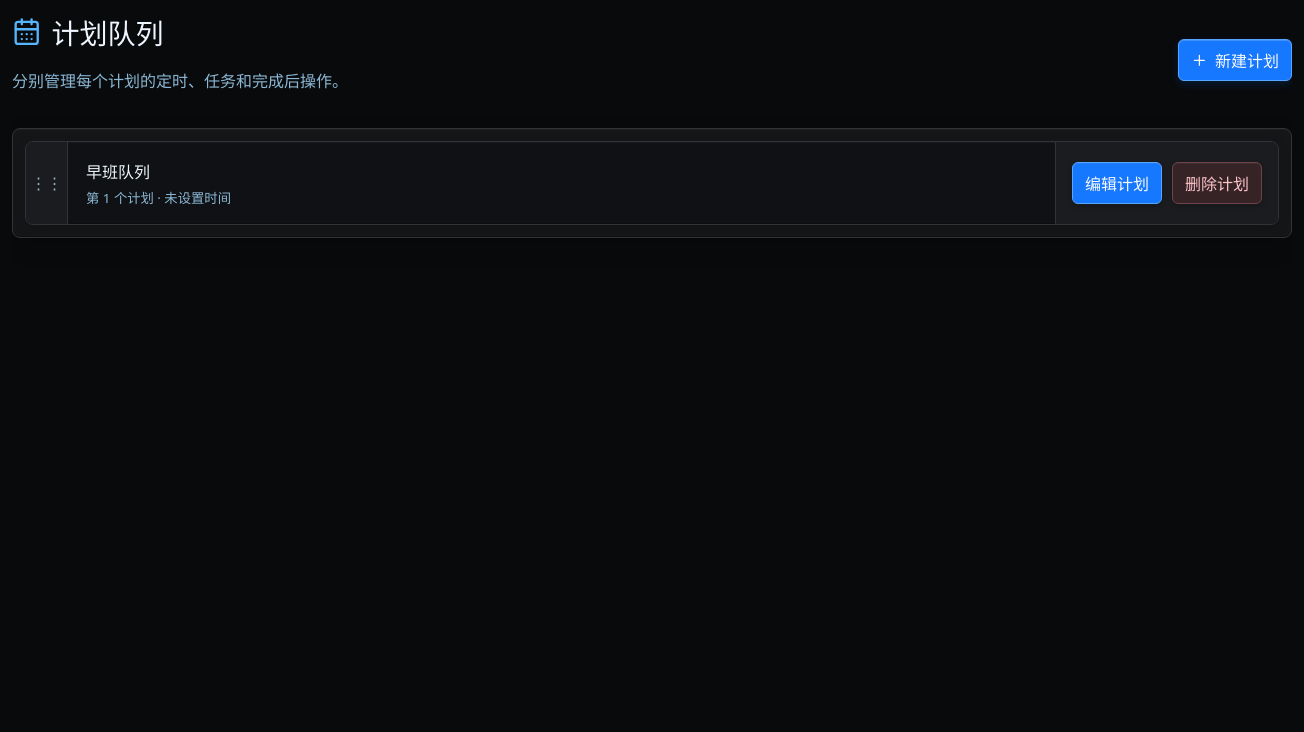
Test: keeps the return button present through rename cancellation and commits on blur
Click the button "编辑计划" at (1117, 183), box [1072,162,1162,204]
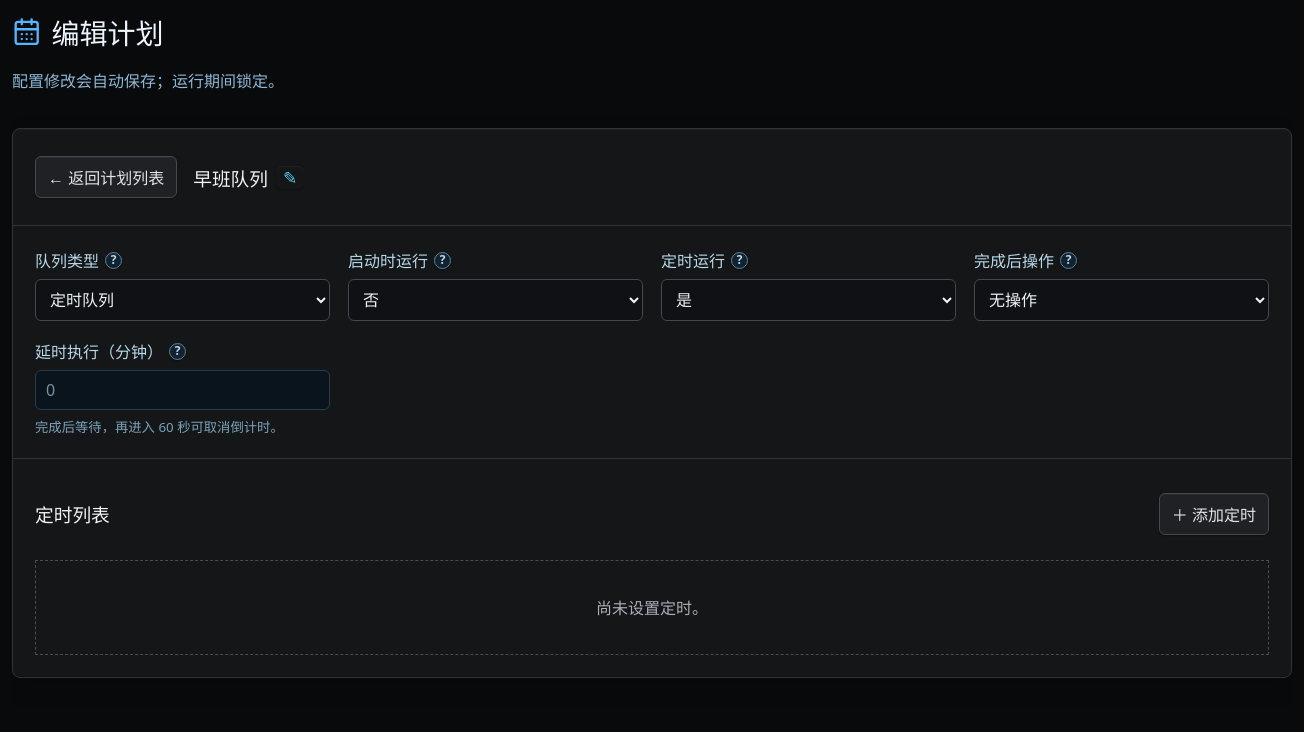
Click the button with class "rename-button" at (290, 177), box [276,166,304,189]
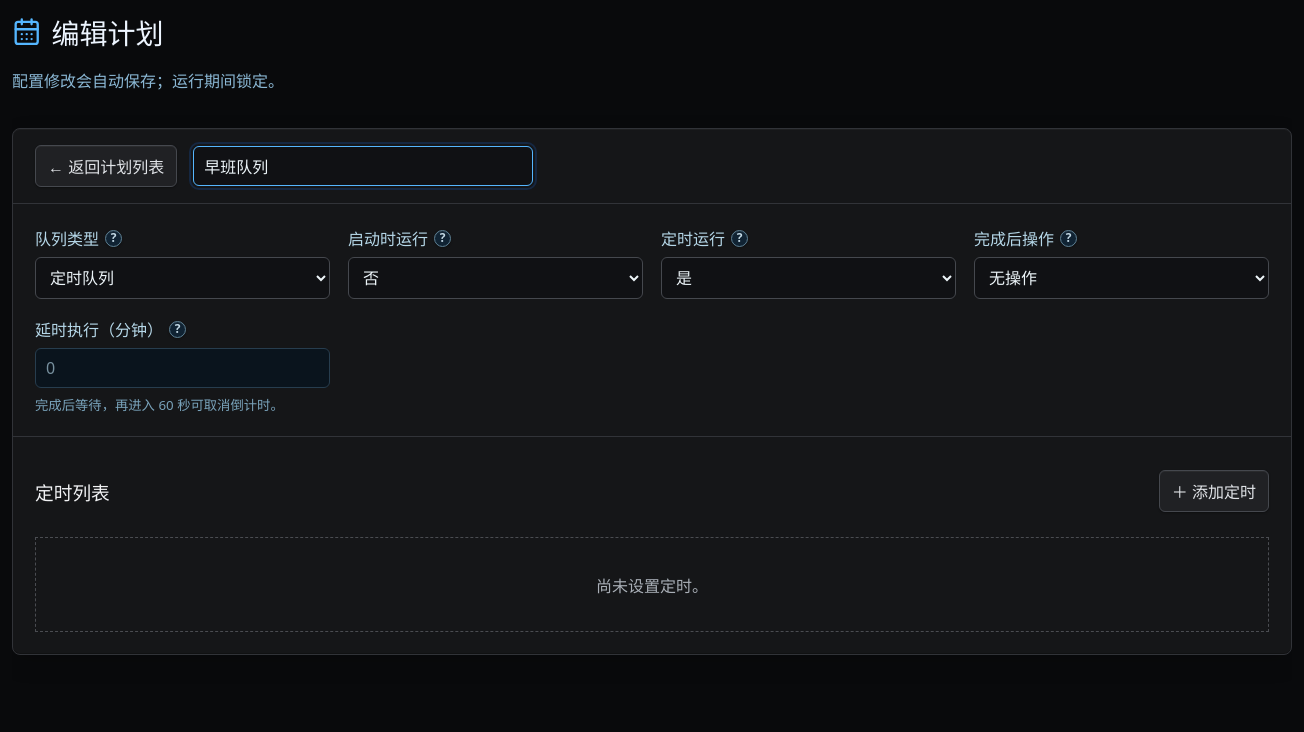
Replace the text in the field named "计划名称" with "取消的名称" at (363, 166), box [193,146,533,186]
Press Esc in the field named "计划名称", box [193,146,533,186]
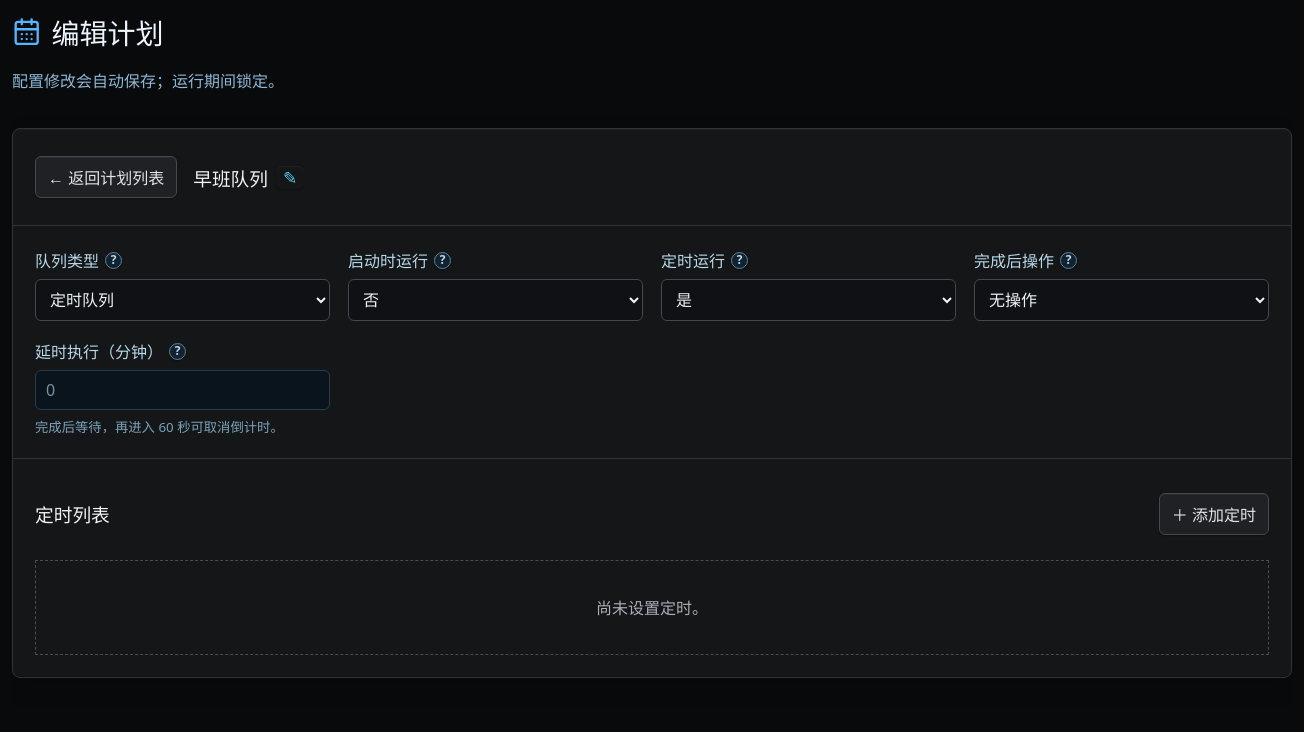
Now the heading "早班队列" is shown, box [193,164,268,191]
Click the button with class "rename-button" at (290, 177), box [276,166,304,189]
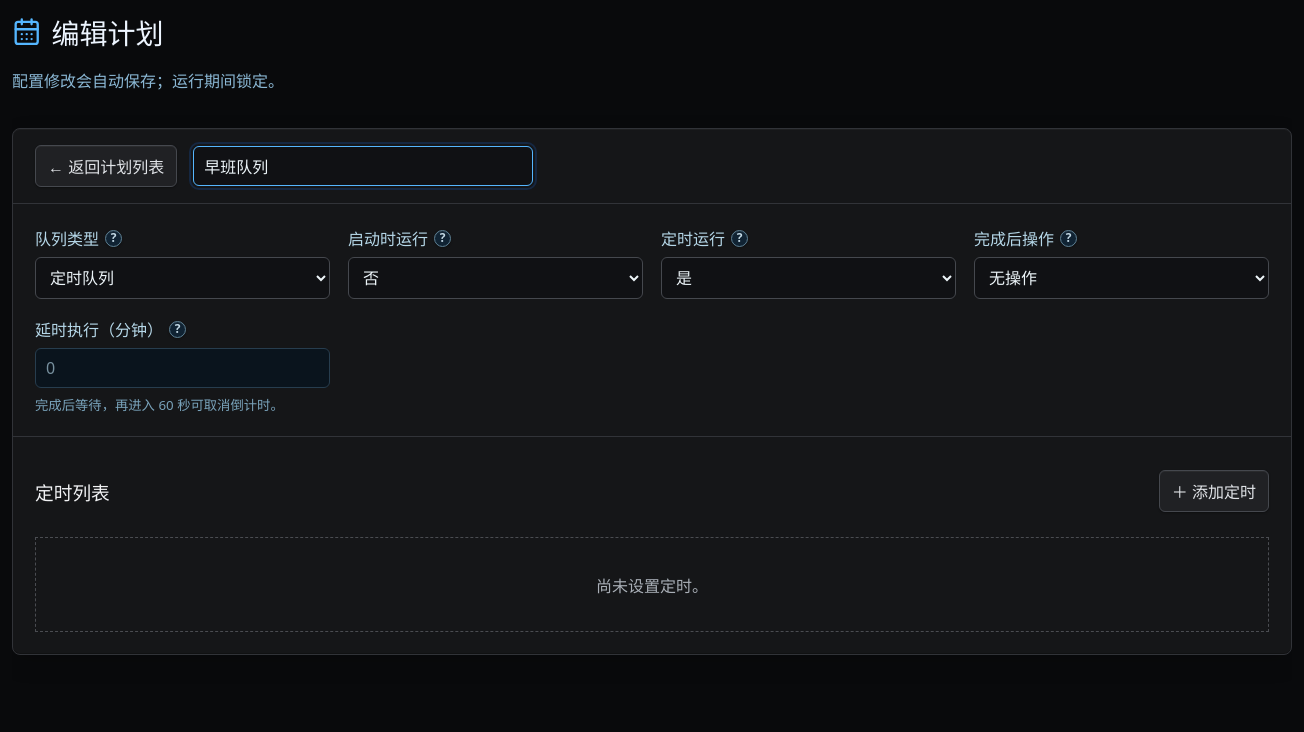
Replace the text in the field named "计划名称" with "新名称" at (363, 166), box [193,146,533,186]
Leave the field named "计划名称", box [193,146,533,186]
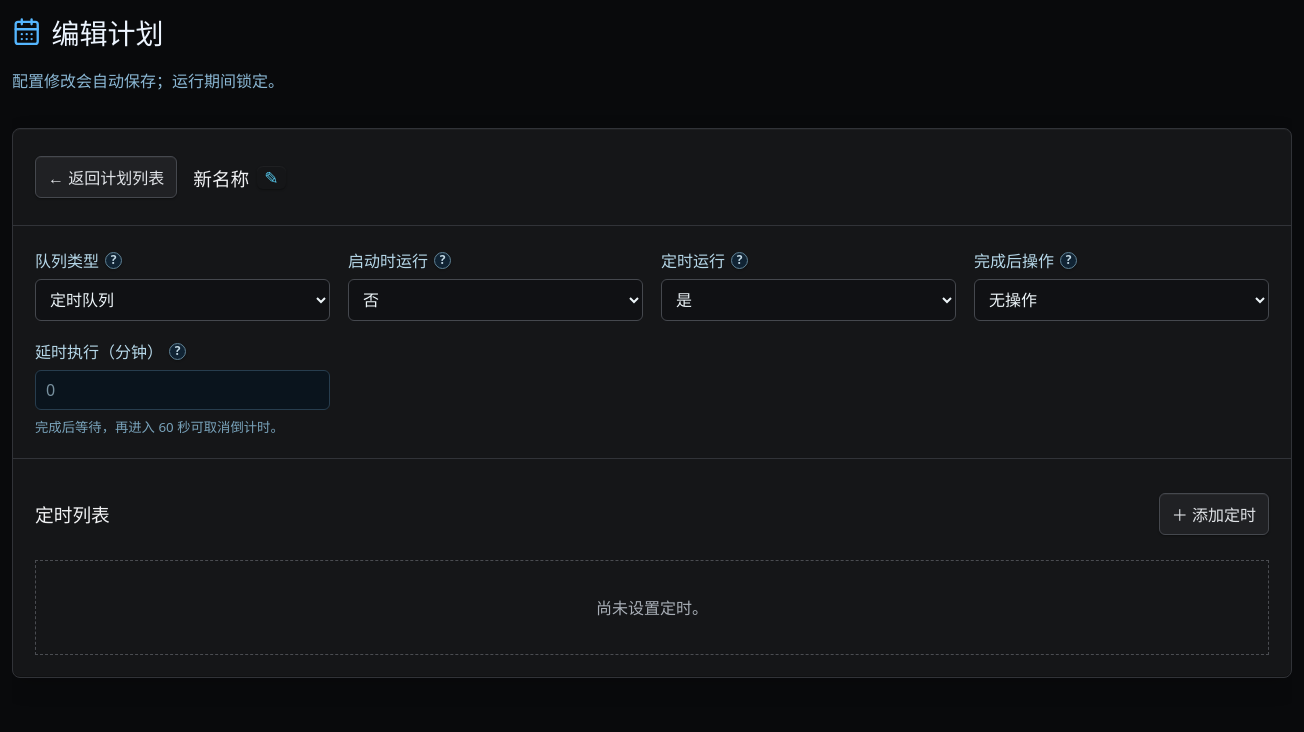
Now the heading "新名称" is shown, box [193,164,249,191]
Click the button with class "back-button" at (106, 177), box [35,156,177,198]
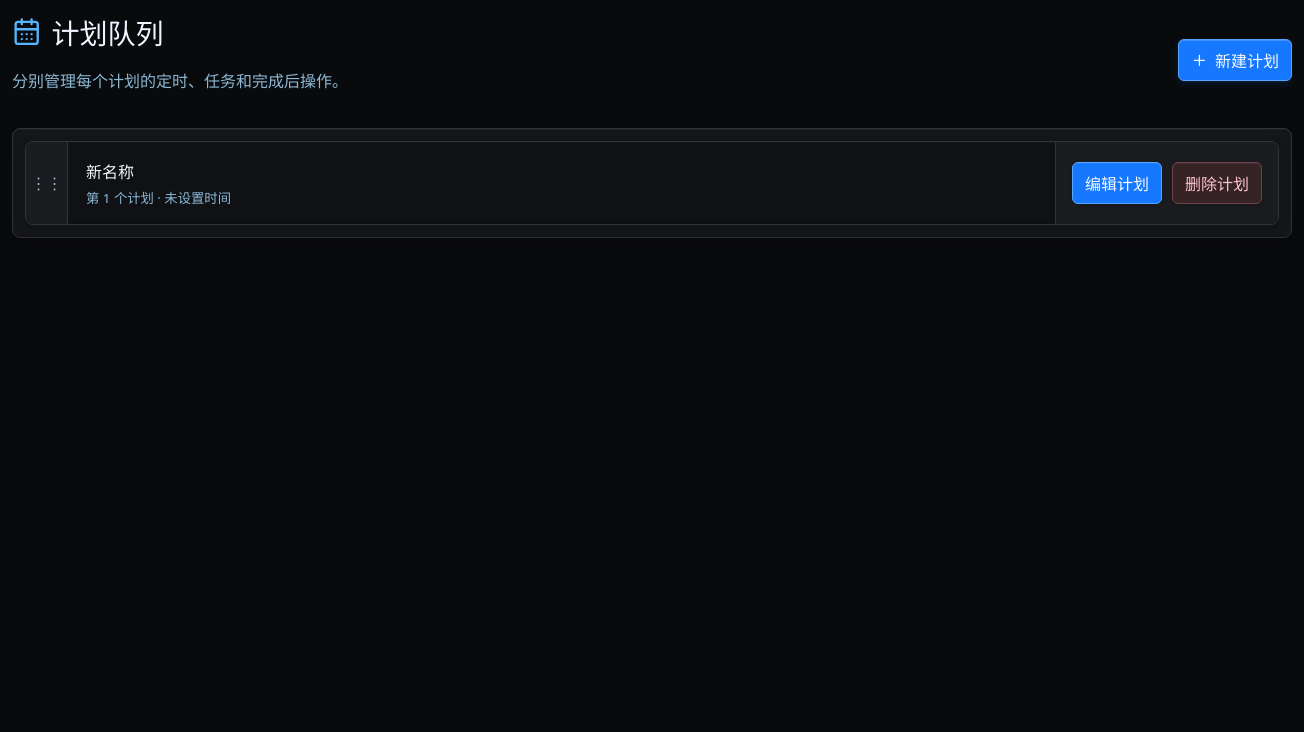
Now the element showing "⋮⋮ 新名称 第 1 个计划 · 未设置时间 编辑计划 删除计划" is shown, box [12,128,1292,238]
